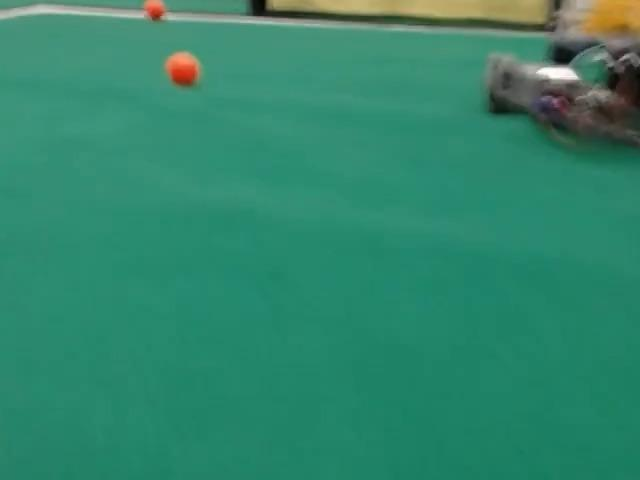Ball: (165, 52, 200, 86)
Robot: (485, 41, 639, 146)
